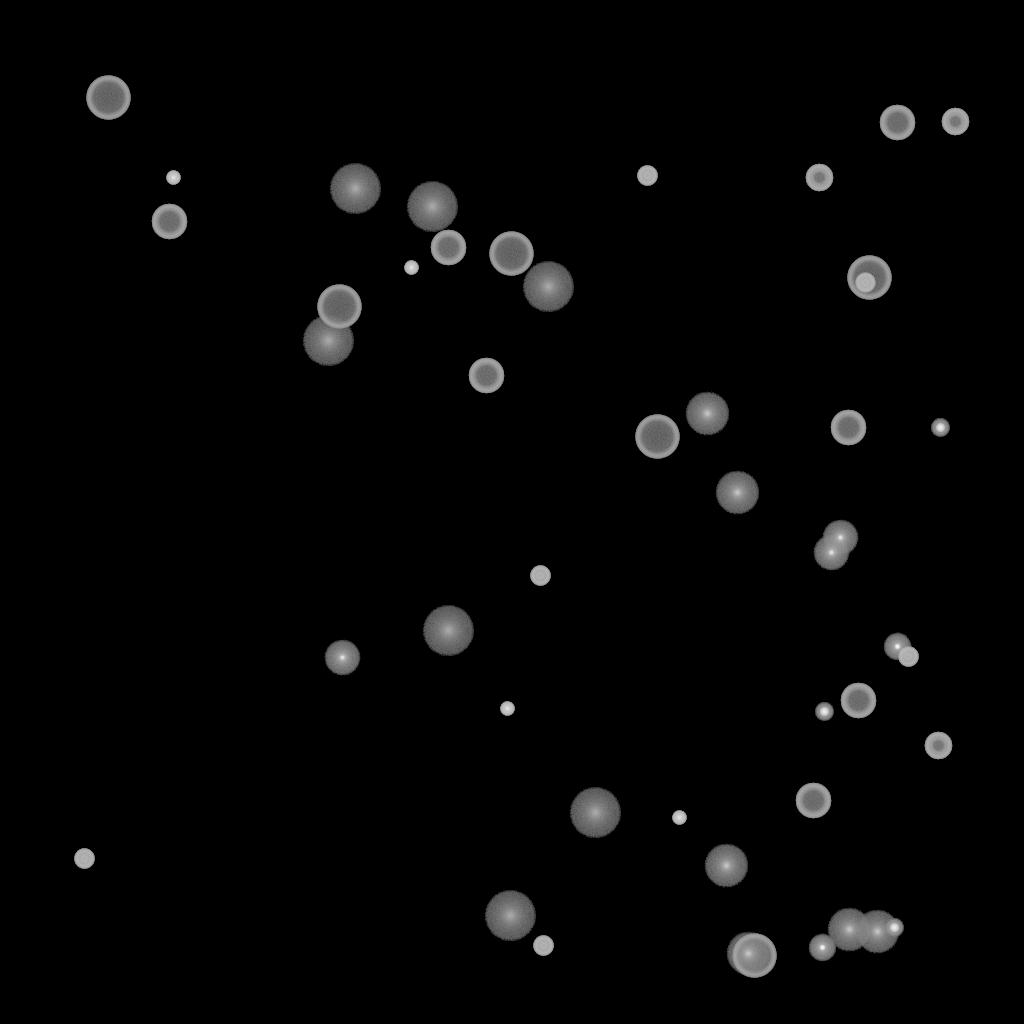depth:-10: (808, 934, 836, 962), (883, 633, 911, 661)
depth:-20: (885, 919, 903, 937), (931, 419, 949, 437), (815, 703, 833, 721)
depth:-30: (404, 261, 418, 275), (672, 811, 686, 825), (500, 702, 514, 716), (166, 171, 180, 185)
depth:-40: (898, 647, 918, 667), (533, 936, 553, 956), (530, 566, 550, 586), (74, 849, 94, 869), (637, 166, 657, 186), (855, 273, 875, 293)
depth:-50: (805, 164, 833, 192), (941, 108, 969, 136), (924, 732, 952, 760)
depth:-60: (830, 410, 866, 446), (840, 683, 876, 719), (151, 204, 187, 240), (795, 783, 831, 819), (468, 358, 504, 394), (430, 230, 466, 266), (879, 105, 915, 141)
depth:-70: (489, 232, 533, 276), (635, 415, 679, 459), (732, 934, 776, 978), (317, 285, 361, 329), (86, 76, 130, 120), (847, 256, 891, 300)
depth:0: (822, 520, 858, 556), (324, 640, 360, 676), (813, 535, 849, 571)
depth:10: (827, 908, 871, 952), (715, 471, 759, 515), (704, 844, 748, 888), (685, 392, 729, 436), (855, 910, 899, 954), (726, 932, 770, 976)
depth:20: (329, 164, 381, 214), (302, 316, 354, 366), (406, 182, 458, 232), (569, 788, 621, 838), (522, 262, 574, 312), (422, 606, 474, 656), (484, 891, 536, 941)
